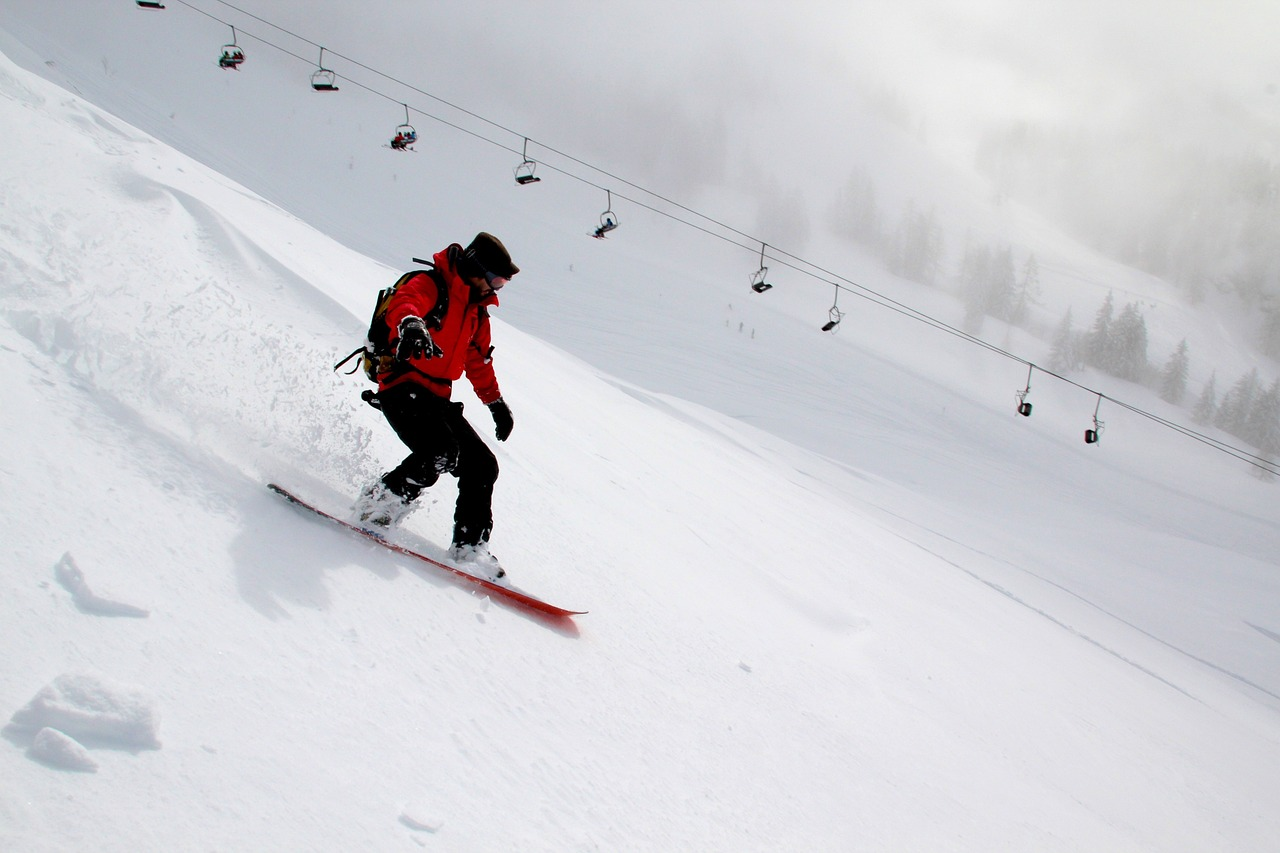snowboarder: (247, 145, 590, 642)
